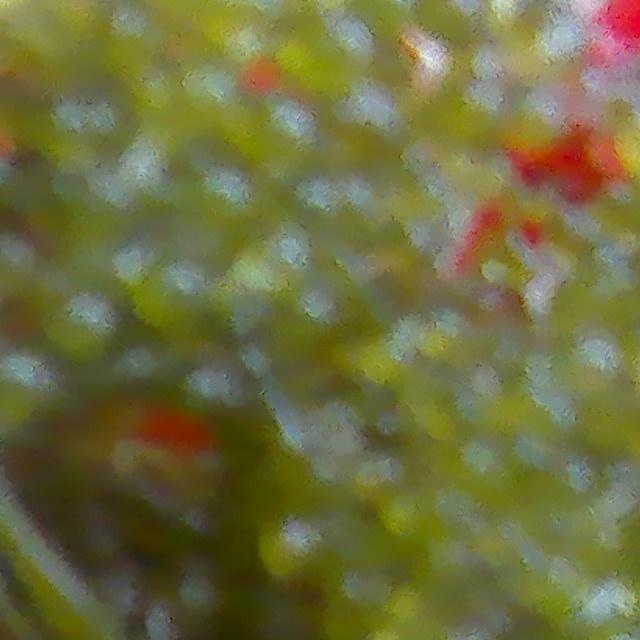SeaGrape: (278, 13, 370, 104), (41, 285, 123, 368), (235, 95, 314, 169), (130, 261, 210, 329), (176, 170, 256, 238), (415, 0, 490, 48)
